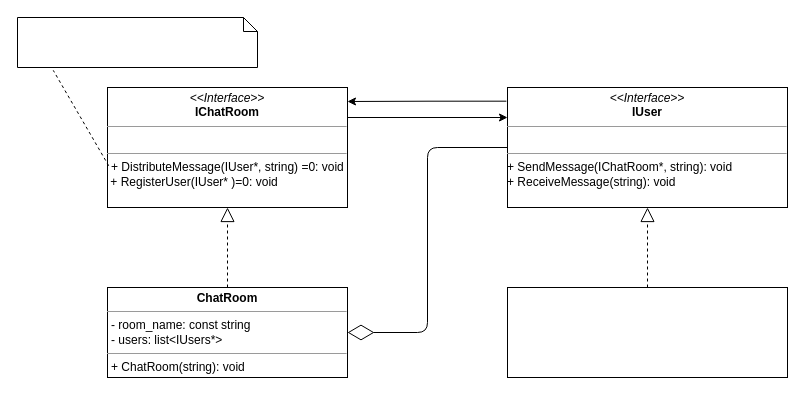
Some shapes in this 805 by 395 pixel diagram are drawn without their labels. The centre of each missing label's shape, as x and y in pixels:
"foreach u in users: u->ReceiveMessage(const string &)" belongs at point 137,42.
"User - user_name: const string + User(string): void" belongs at point 647,332.
